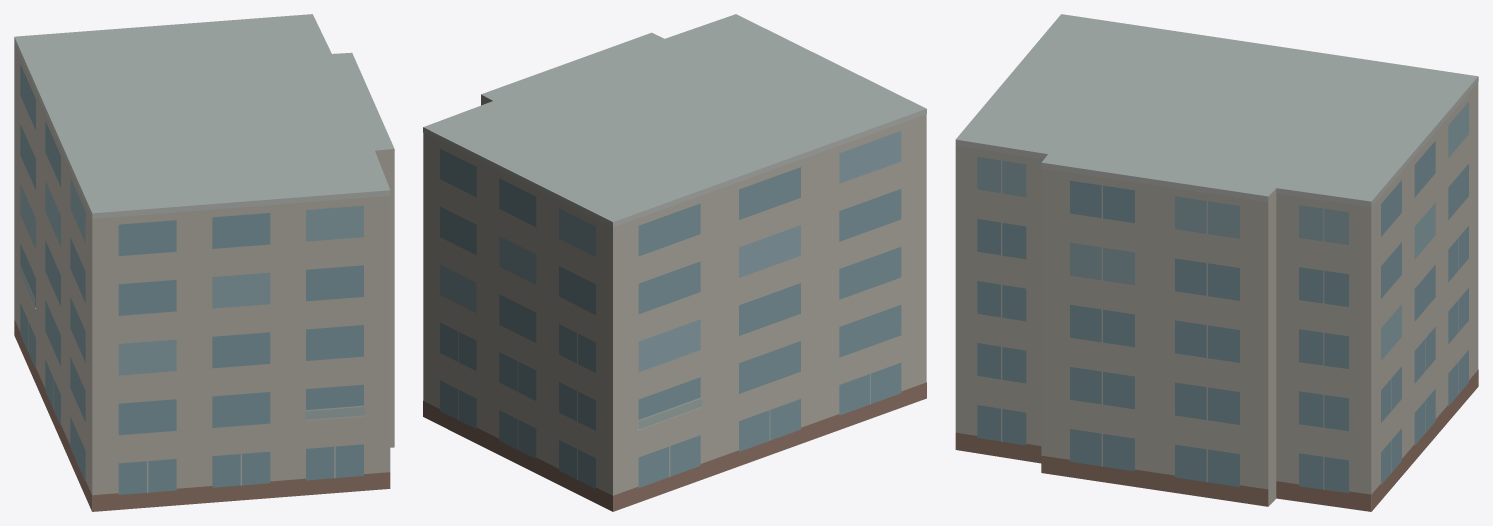
File: survey-upis-33046679.glb
The picture shows the model from 3 angles, left to right: view 1: azimuth 30°, elevation 25°; view 2: azimuth 150°, elevation 25°; view 3: azimuth 270°, elevation 25°; orthographic projection. The views are drawn at different scales.
Parts seen in each view (by area): view 1: survey-upis-33046679.tmp; view 2: survey-upis-33046679.tmp; view 3: survey-upis-33046679.tmp.
Part boxes in pixels (x1,y1,x2,y2): survey-upis-33046679.tmp: (14, 14, 394, 511); survey-upis-33046679.tmp: (423, 14, 926, 511); survey-upis-33046679.tmp: (955, 14, 1478, 511).
Size of the model in its own units: 17.12 by 13.2 by 20.17.
